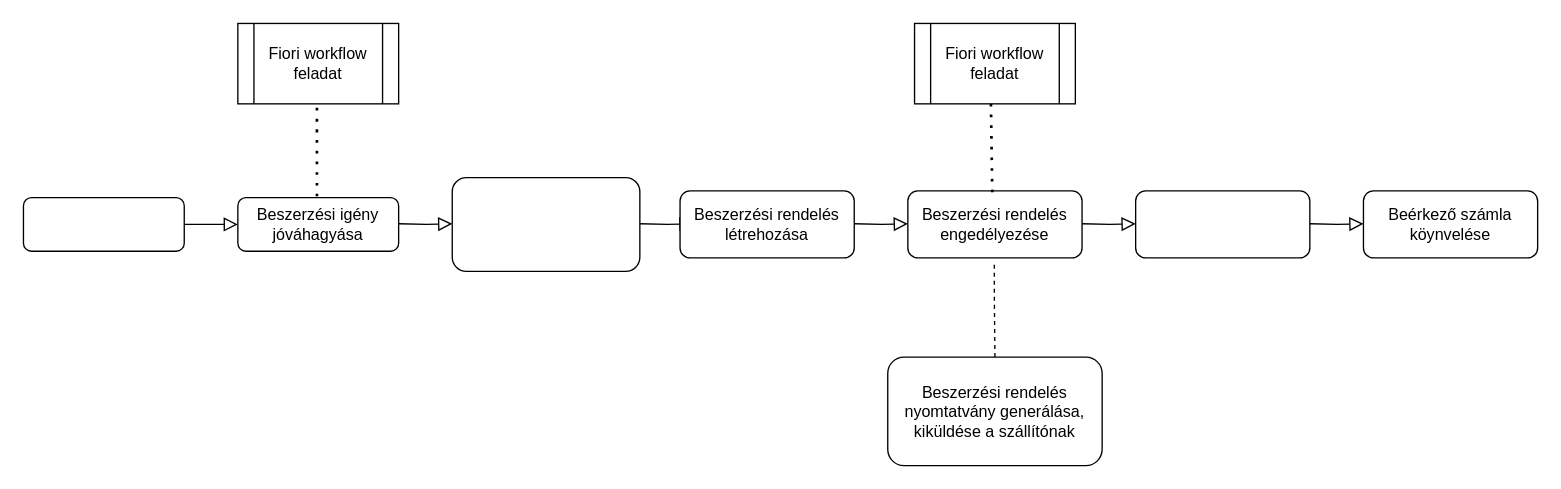
Image size: 1561x489. Some labels were removed from this diagram. The centre of each missing label's shape, as x and y in pixels:
Beszerzési igény létrehozása: [103,223]
Beszerzési igény átforgatása beserzési rendeléssé: [545,223]
TIG létrehozása: [1222,224]
